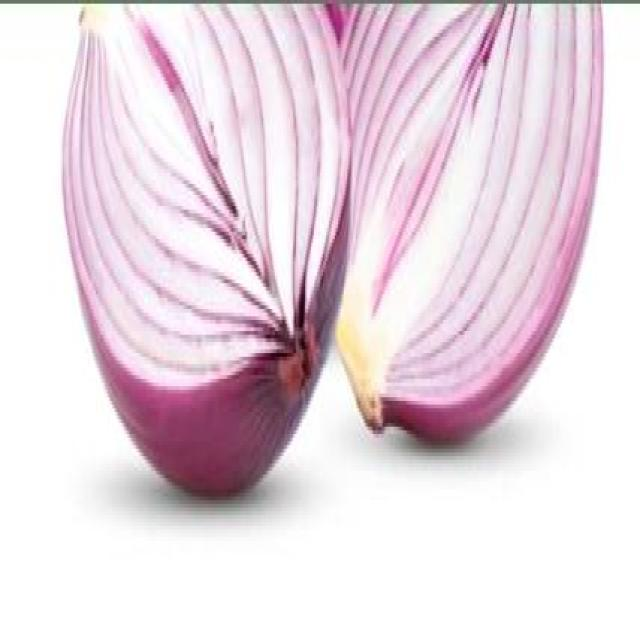Onion: (57, 2, 345, 502), (347, 2, 603, 432)
